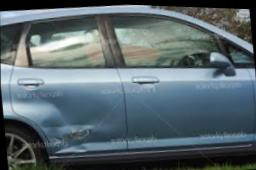Door: (15, 85, 123, 170)
